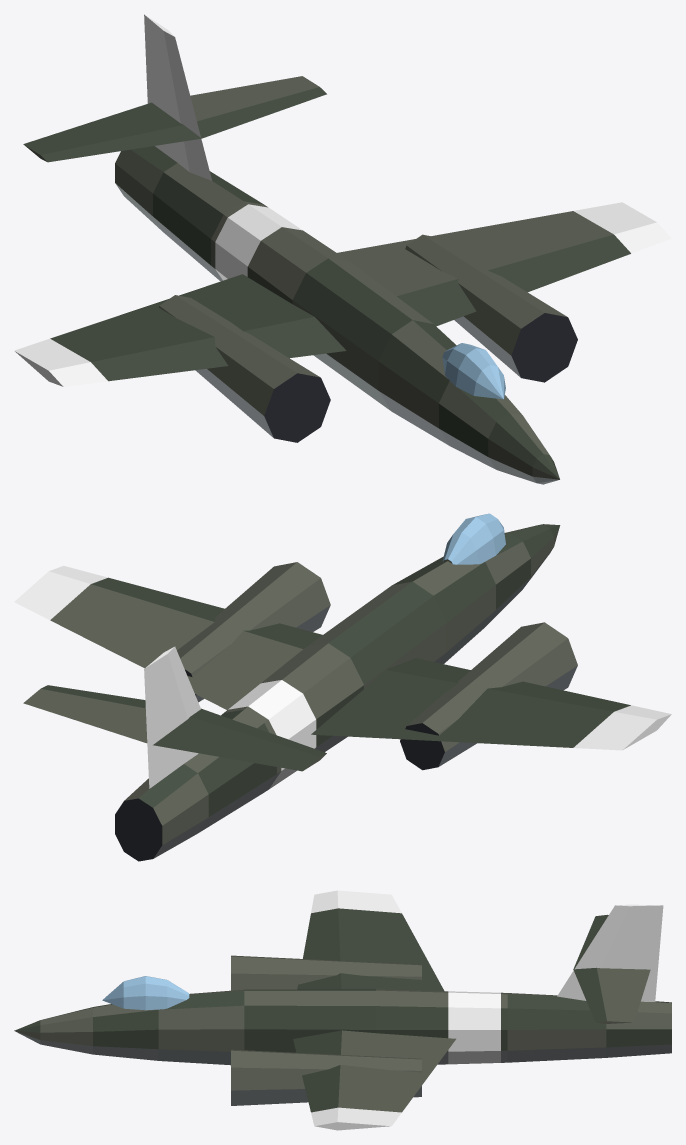
The model's file is meteor_f8_lod.glb.
3 views of the same model, one above another, from view 1: azimuth 30°, elevation 25°; view 2: azimuth 150°, elevation 25°; view 3: azimuth 270°, elevation 25° (orthographic). The views are drawn at different scales.
Parts seen in each view (by area): view 1: body; view 2: body; view 3: body.
Part boxes in pixels (x1=…): body: x1=14, y1=14, x2=671, y2=484; body: x1=14, y1=513, x2=671, y2=861; body: x1=14, y1=890, x2=671, y2=1130.
Size of the model in its own units: 11.32 by 3.64 by 13.59.
